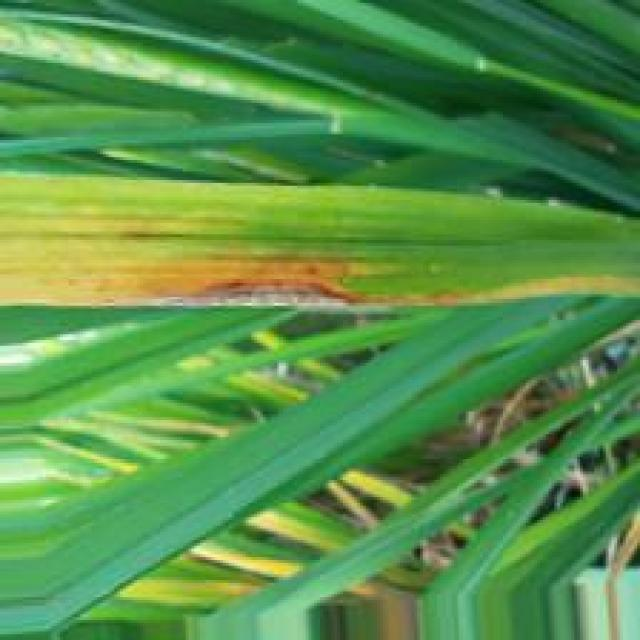Rice Tungro: (127, 275, 373, 307)
